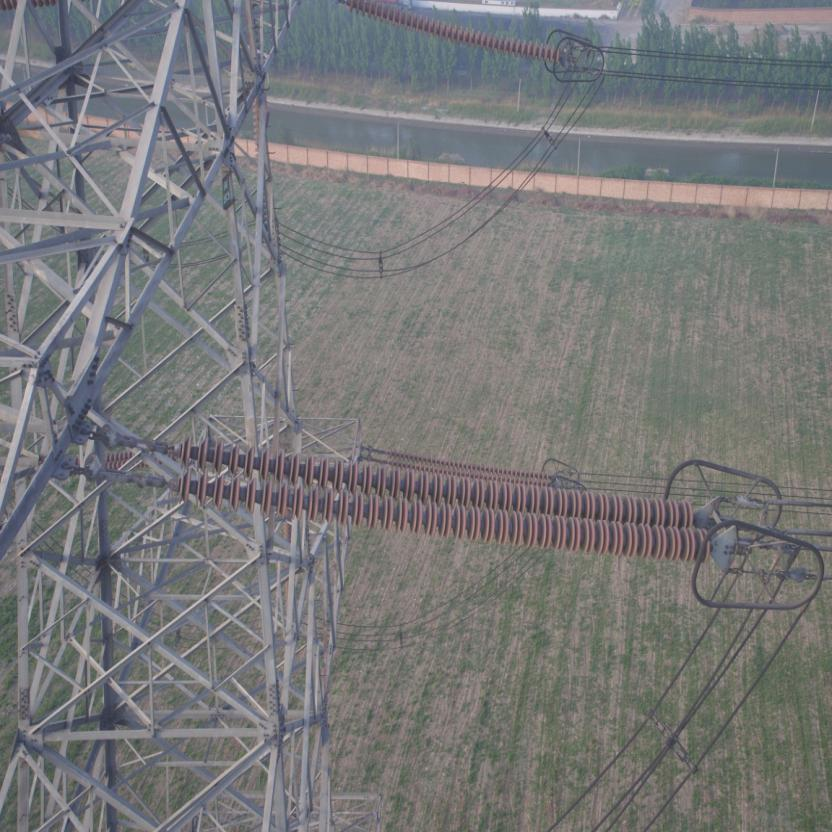insulator: (131, 425, 719, 565), (315, 0, 566, 68)
